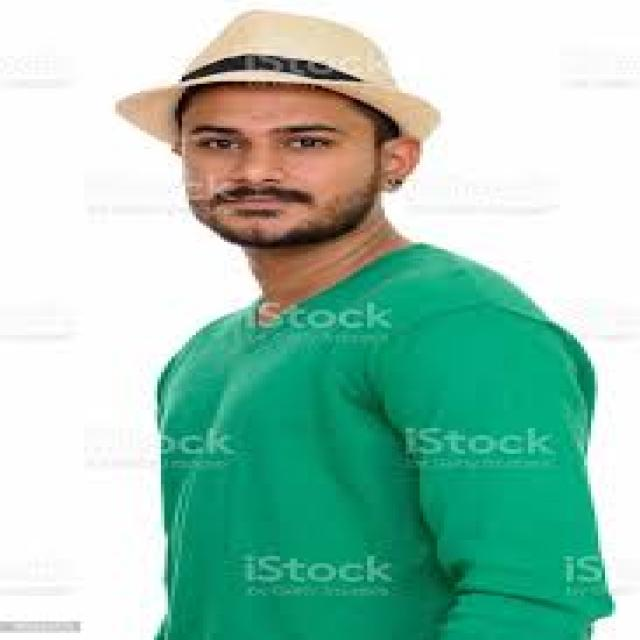hat: (119, 10, 441, 252)
